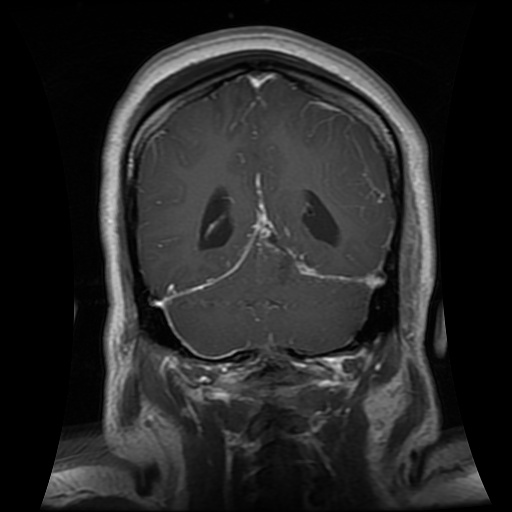glioma: (246, 170, 290, 257)
